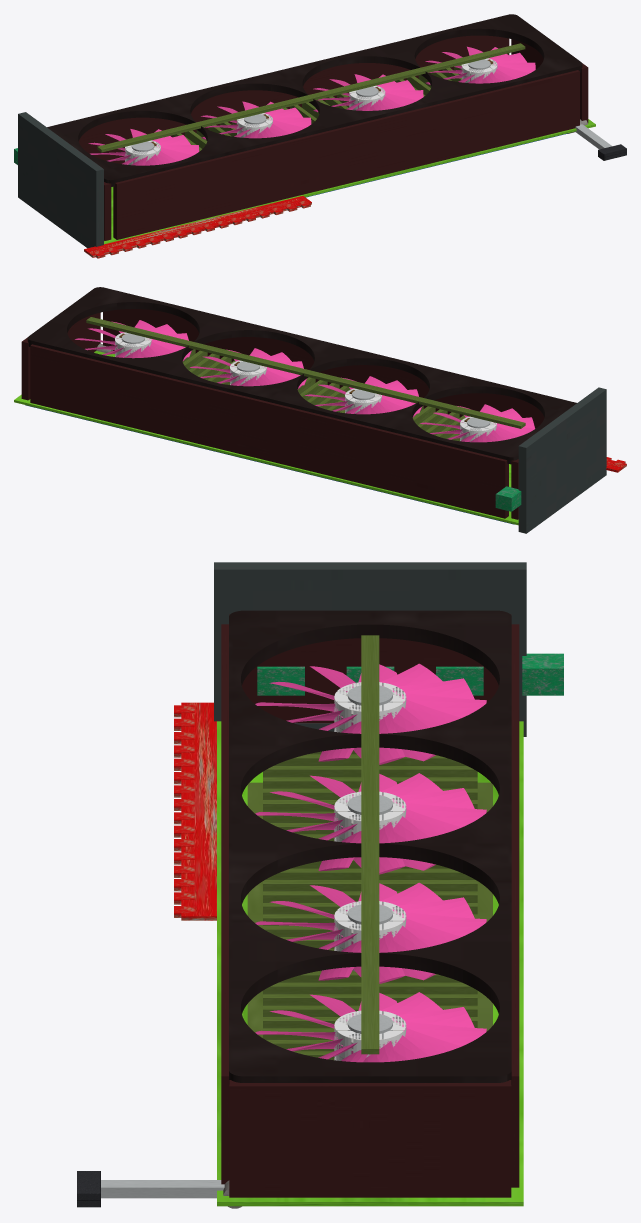
The model's file is Technology_Graphics_Card__0677.glb.
3 views of the same model, one above another, from view 1: azimuth 30°, elevation 25°; view 2: azimuth 150°, elevation 25°; view 3: azimuth 270°, elevation 25° (orthographic). The views are drawn at different scales.
Parts seen in each view (by area): view 1: card_body::skirt_wall_bottom, card_body::shroud_faceplate, card_body::io_bracket_plate, card_body::skirt_wall_top, card_body::vapor_seam, card_body::pcie_contact_bar, card_body::pcb, fan_1::rotor_blades, fan_3::rotor_blades, fan_2::rotor_blades, fan_0::rotor_blades, card_body::skirt_wall_tail (+7 smaller); view 2: card_body::skirt_wall_top, card_body::shroud_faceplate, card_body::io_bracket_plate, card_body::skirt_wall_bottom, card_body::vapor_seam, card_body::pcb, fan_0::rotor_blades, fan_1::rotor_blades, fan_2::rotor_blades, fan_3::rotor_blades, card_body::skirt_wall_tail, card_body::hdmi_port (+5 smaller); view 3: card_body::shroud_faceplate, card_body::skirt_wall_tail, card_body::io_bracket_plate, card_body::pcb, card_body::vapor_seam, card_body::skirt_wall_head, fan_2::rotor_blades, fan_0::rotor_blades, fan_1::rotor_blades, fan_3::rotor_blades, card_body::pcie_contact_bar, card_body::skirt_wall_top (+22 smaller).
Part boxes in pixels (x1,y1,x2,y2): card_body::skirt_wall_bottom: (113,70,579,239); card_body::shroud_faceplate: (47,14,582,186); card_body::io_bracket_plate: (18,112,103,248); card_body::skirt_wall_top: (78,35,509,163); card_body::vapor_seam: (97,43,525,152); card_body::pcie_contact_bar: (84,196,311,257); card_body::pcb: (104,119,595,244); fan_1::rotor_blades: (201,101,311,139); fan_3::rotor_blades: (425,46,535,84); fan_2::rotor_blades: (313,74,423,112); fan_0::rotor_blades: (88,129,199,165); card_body::skirt_wall_tail: (511,39,588,122); card_body::skirt_wall_top: (30,344,508,518); card_body::shroud_faceplate: (27,287,576,464); card_body::io_bracket_plate: (518,387,606,533); card_body::skirt_wall_bottom: (103,309,544,428); card_body::vapor_seam: (86,317,525,428); card_body::pcb: (14,351,518,525); fan_0::rotor_blades: (420,404,535,442); fan_1::rotor_blades: (304,376,422,417); fan_2::rotor_blades: (190,348,306,389); fan_3::rotor_blades: (75,320,191,360); card_body::skirt_wall_tail: (21,312,100,400); card_body::hdmi_port: (495,486,521,511); card_body::shroud_faceplate: (229,610,511,1084); card_body::skirt_wall_tail: (229,1080,511,1197); card_body::io_bracket_plate: (214,562,526,736); card_body::pcb: (217,721,523,1206); card_body::vapor_seam: (361,635,379,1054); card_body::skirt_wall_head: (229,614,511,723); fan_2::rotor_blades: (255,882,486,983); fan_0::rotor_blades: (255,663,486,764); fan_1::rotor_blades: (255,773,486,874); fan_3::rotor_blades: (255,992,486,1062); card_body::pcie_contact_bar: (181,702,216,920); card_body::skirt_wall_top: (511,624,519,1187).
Size of the model in its own units: 0.397 by 0.0662 by 0.1635.
Materials: 17 (15 with a texture image).
